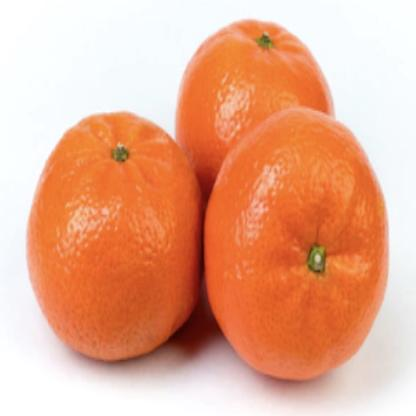fresh: (25, 19, 387, 384)
